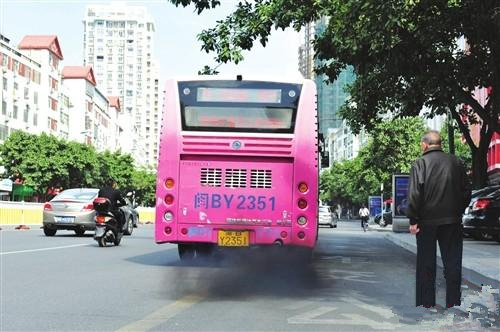smoke: (173, 243, 334, 304)
